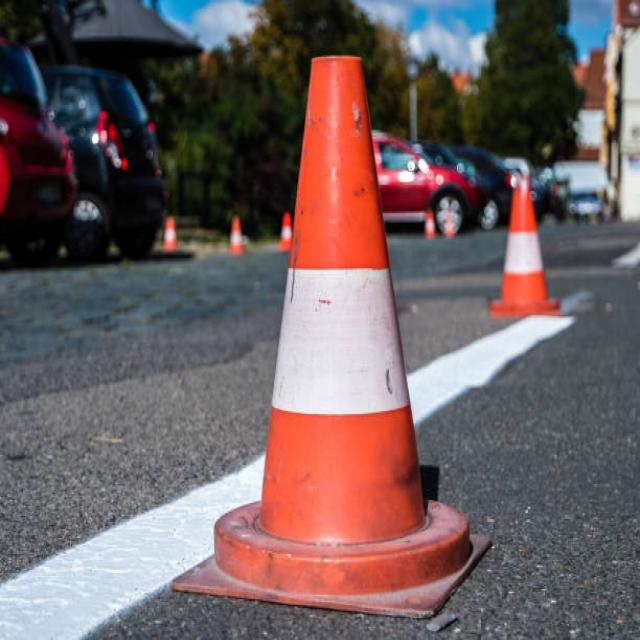Traffic Cone: (164, 23, 515, 640), (470, 129, 591, 359)
